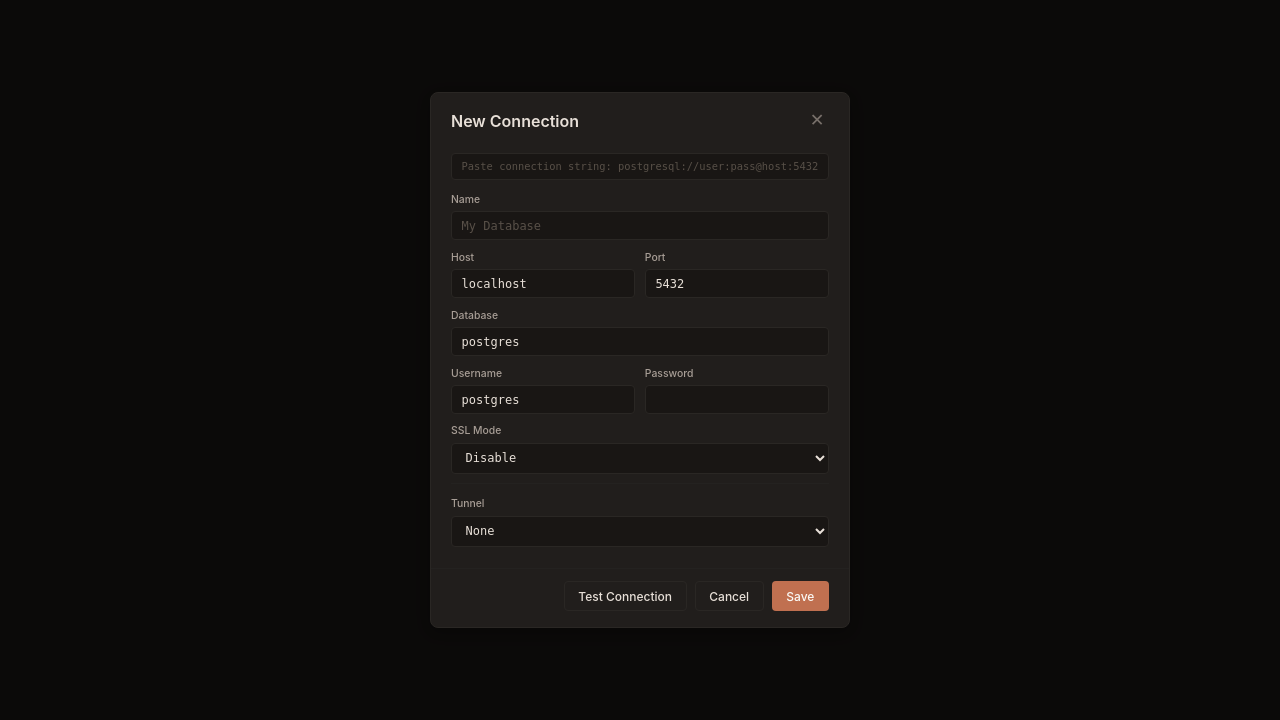
Test: ConnectionModal › shows test connection failure
Click the button "Test Connection".
click(625, 596)  # box [564,582,687,611]
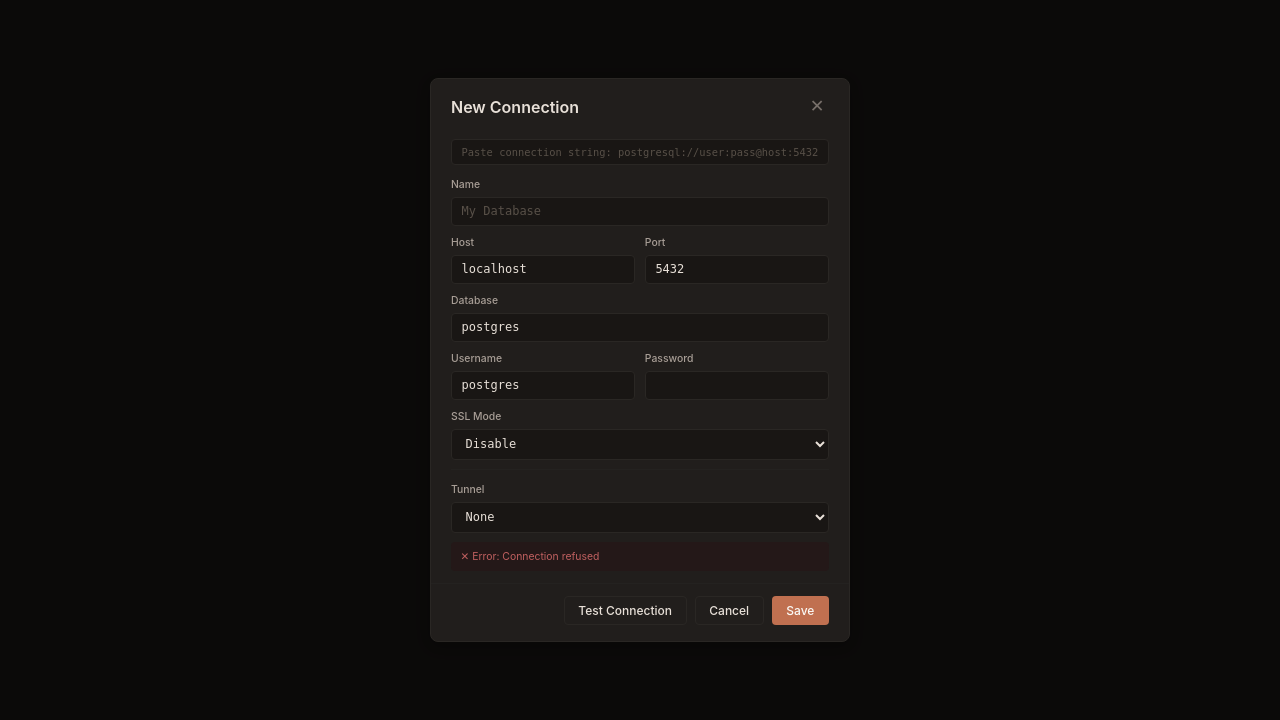
Expected: the text "✕ Error: Connection refused" is shown, [451,542,829,571]
